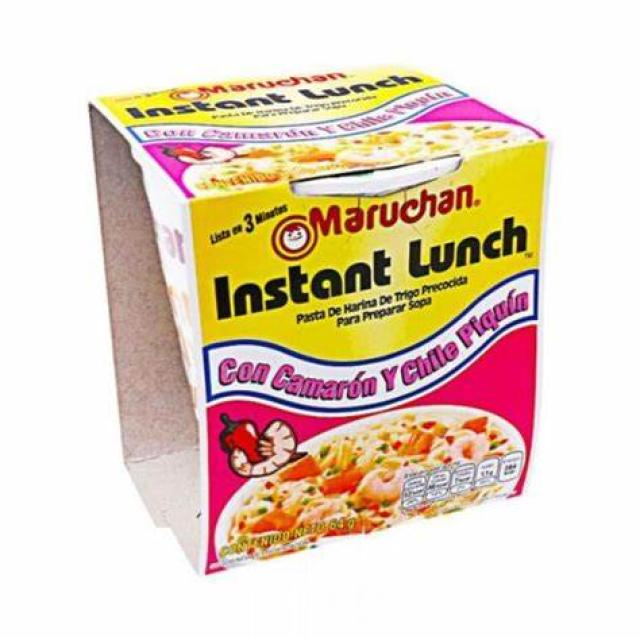Caja: (65, 44, 545, 543)
